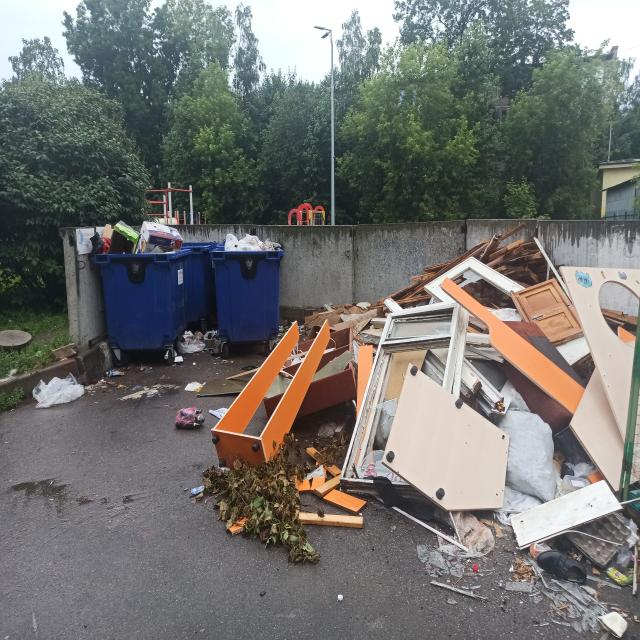bin: (95, 242, 284, 349)
trash: (184, 222, 640, 638), (88, 220, 183, 259), (32, 372, 85, 408), (176, 329, 218, 354), (225, 233, 282, 251), (175, 407, 205, 429), (106, 369, 124, 377), (174, 350, 183, 362), (279, 328, 286, 333)
